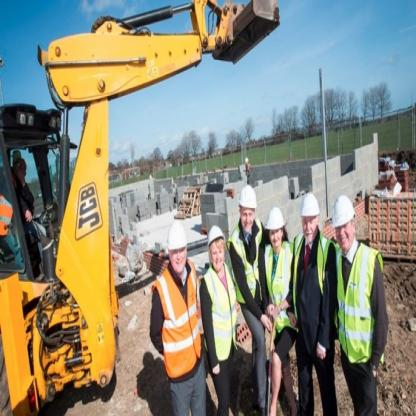person: (332, 177, 394, 412), (150, 223, 203, 415), (229, 174, 271, 415), (262, 199, 300, 416), (298, 183, 333, 415), (203, 223, 239, 415)
